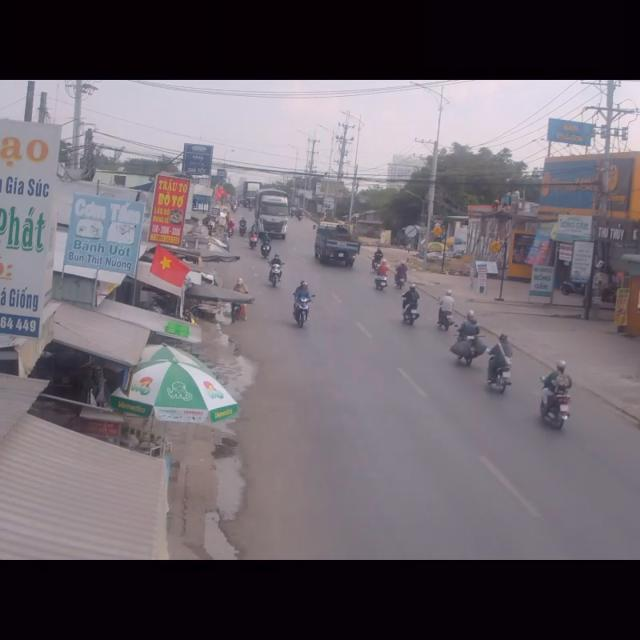motorbike: (537, 360, 574, 438), (484, 333, 512, 399), (457, 313, 484, 374), (292, 279, 310, 332), (439, 291, 458, 330), (402, 283, 418, 326), (270, 251, 284, 289), (396, 257, 410, 294), (375, 262, 389, 292), (371, 247, 384, 270), (262, 230, 272, 258)
truck: (314, 220, 362, 270)
